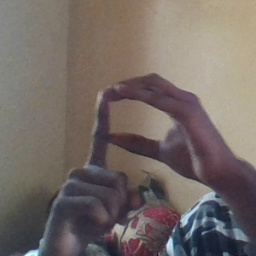P: (52, 70, 209, 230)
